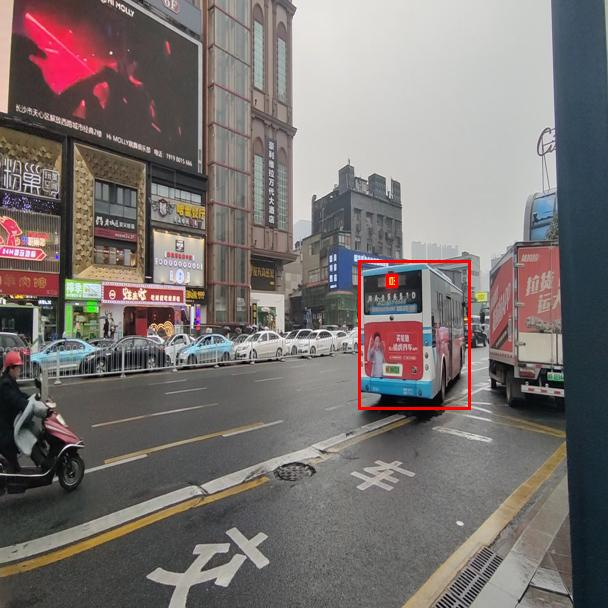bus: (358, 260, 470, 409)
screen: (386, 274, 397, 287)
